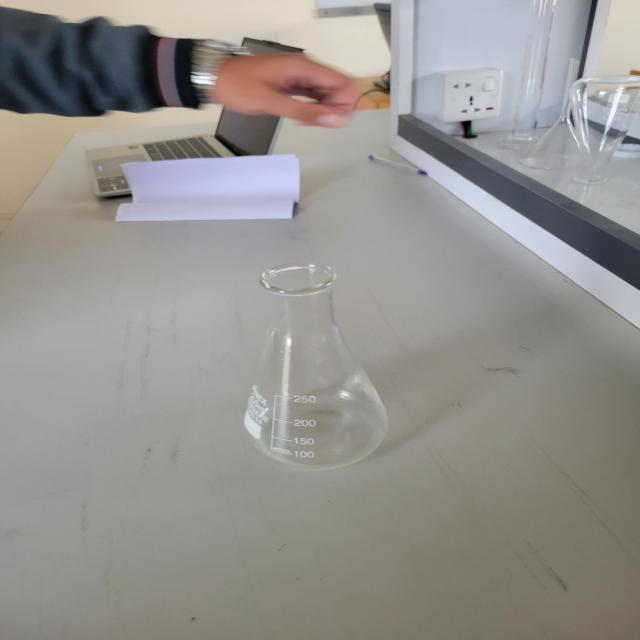Conical_Flask: (214, 237, 419, 489)
